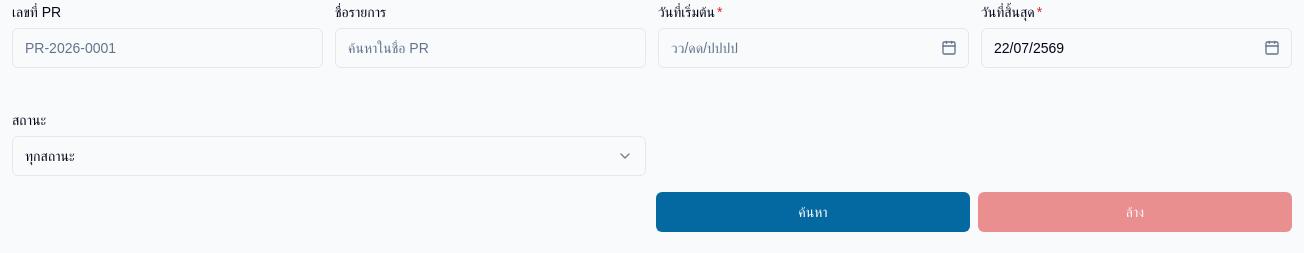
Test: PRListFilterForm › shows required errors when both dates empty
Clear the field labelled "วันที่สิ้นสุด*". click: point(1136, 48)
box: [981, 28, 1292, 68]
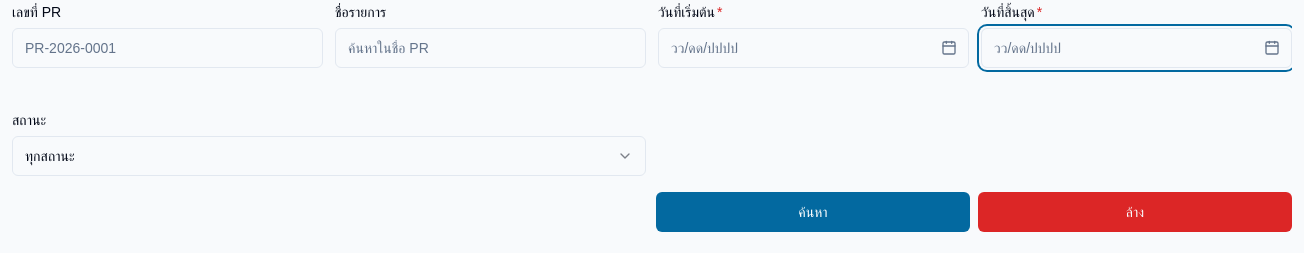
Click the button "ค้นหา". click: point(813, 212)
box: [656, 192, 970, 232]
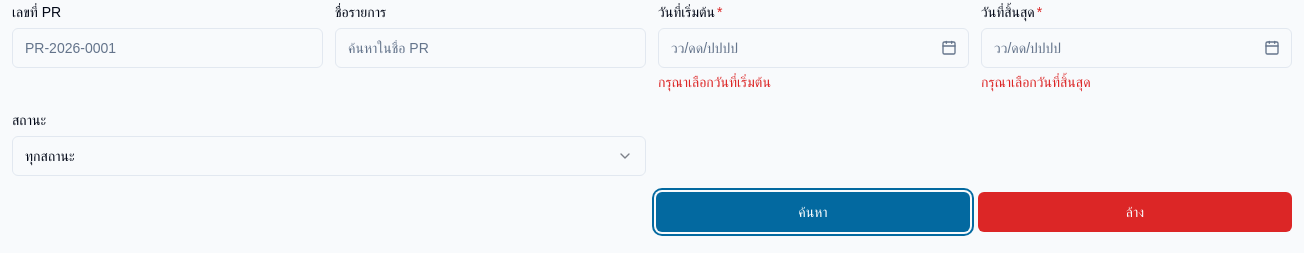
expect the text "กรุณาเลือกวันที่เริ่มต้น" is shown: met, box [658, 74, 771, 90]
expect the text "กรุณาเลือกวันที่สิ้นสุด" is shown: met, box [981, 74, 1091, 90]
